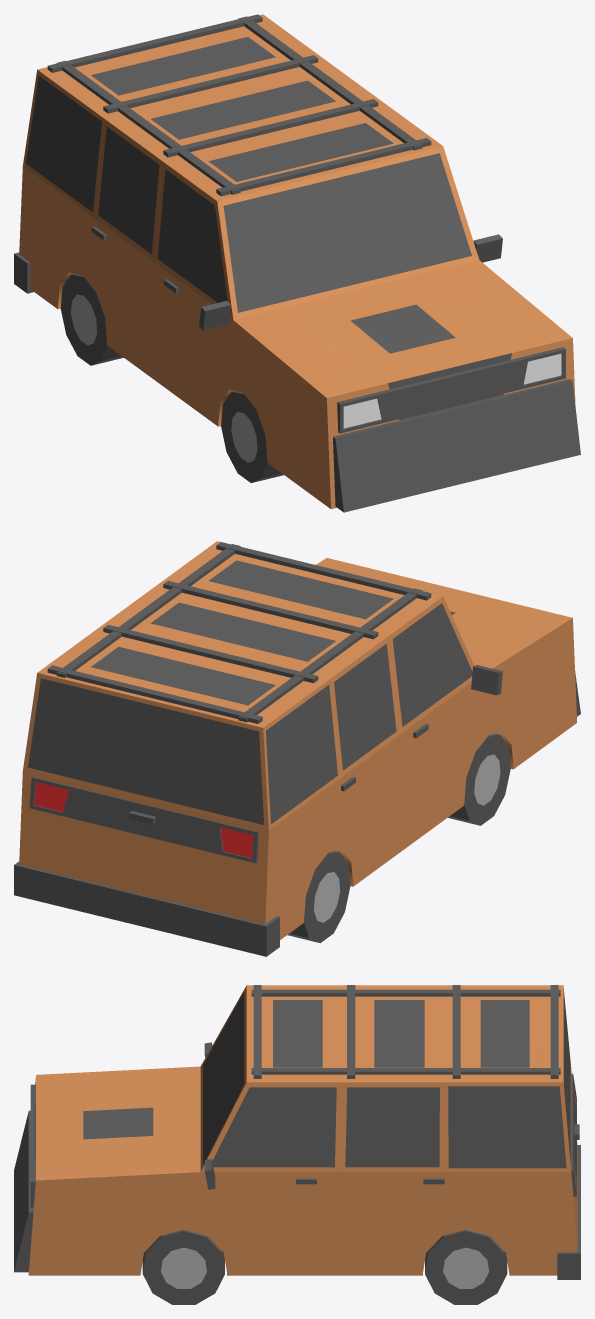
Rendered from SM_Car_02_01.FBX.
3 renders of one model, top to bottom at view 1: azimuth 30°, elevation 25°; view 2: azimuth 150°, elevation 25°; view 3: azimuth 270°, elevation 25°, orthographic. The views are drawn at different scales.
Visible parts, largest first — view 1: SM_Car_02_01, SM_Wheel_LFront002, SM_Wheel_RBack001; view 2: SM_Car_02_01, SM_Wheel_LFront002, SM_Wheel_RBack001; view 3: SM_Car_02_01, SM_Wheel_LBack001, SM_Wheel_LFront001.
Part boxes in pixels (x1=…): SM_Car_02_01: x1=14, y1=14, x2=580, y2=512; SM_Wheel_LFront002: x1=221, y1=391, x2=283, y2=482; SM_Wheel_RBack001: x1=60, y1=273, x2=123, y2=365; SM_Car_02_01: x1=14, y1=541, x2=580, y2=956; SM_Wheel_LFront002: x1=448, y1=733, x2=510, y2=825; SM_Wheel_RBack001: x1=287, y1=851, x2=350, y2=943; SM_Car_02_01: x1=14, y1=985, x2=580, y2=1279; SM_Wheel_LBack001: x1=425, y1=1229, x2=507, y2=1304; SM_Wheel_LFront001: x1=142, y1=1229, x2=224, y2=1304.
Size of the model in its own units: 1.82 by 1.48 by 3.41.
1 material, 1 textured.
